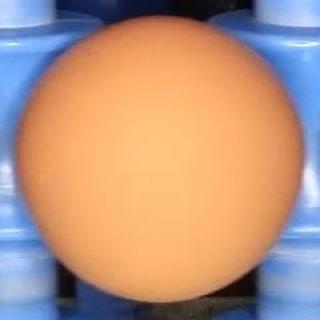Telur: (12, 13, 306, 303)
